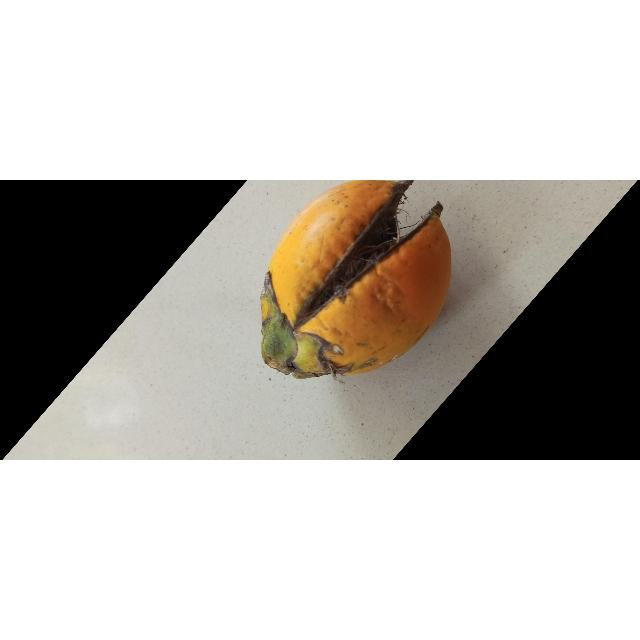damaged: (264, 180, 448, 378)
